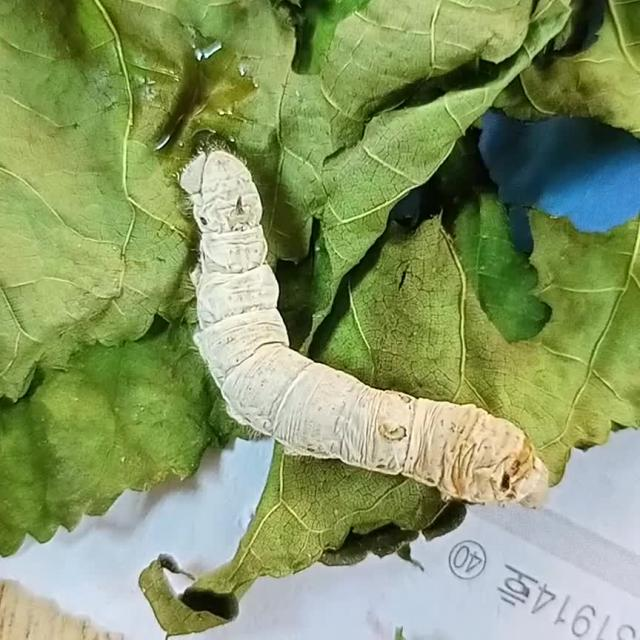Grasserie: (129, 102, 571, 552)
